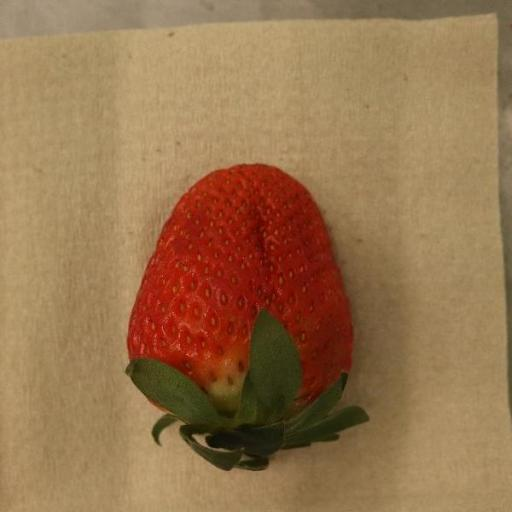Strawberry: (125, 164, 371, 473)
